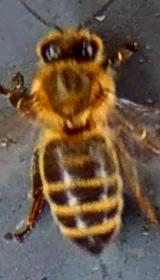varroa_mite: (54, 113, 101, 140)
